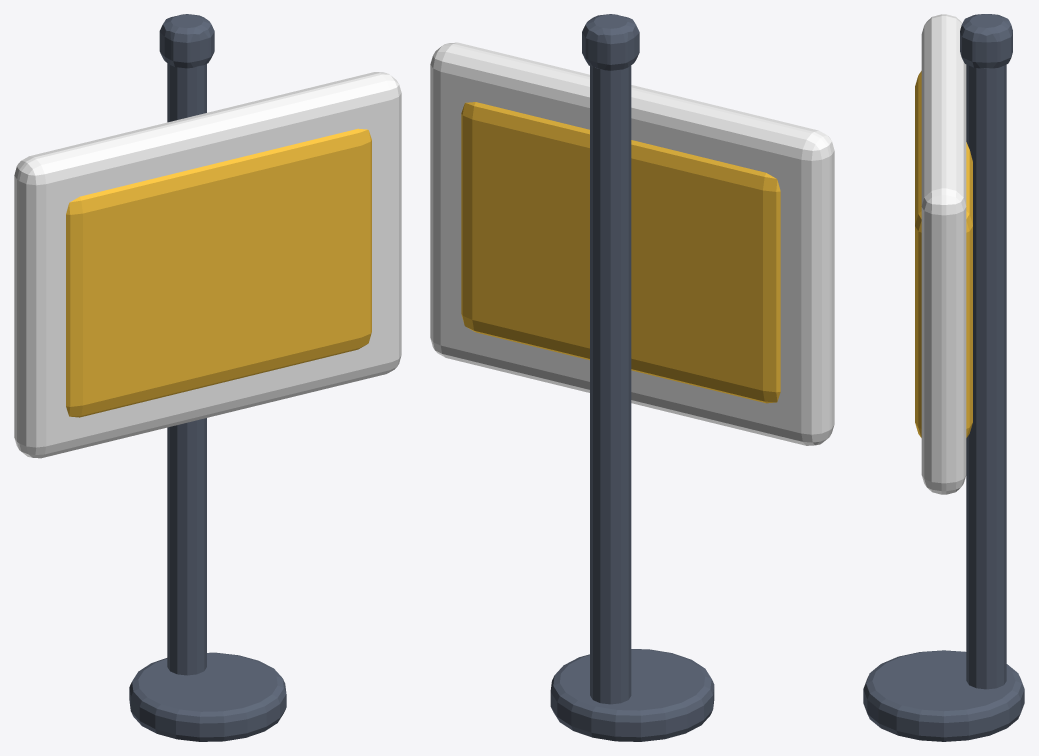
Rendered from stade_panneau_petit.fbx.
3 renders of one model, left to right at view 1: azimuth 30°, elevation 25°; view 2: azimuth 150°, elevation 25°; view 3: azimuth 270°, elevation 25°, orthographic. The views are drawn at different scales.
Visible parts, largest first — view 1: stade_panneau_petit_Face, stade_panneau_petit_Blanc, stade_panneau_petit_Gris; view 2: stade_panneau_petit_Face, stade_panneau_petit_Blanc, stade_panneau_petit_Gris; view 3: stade_panneau_petit_Gris, stade_panneau_petit_Blanc, stade_panneau_petit_Face.
Boxes of the visible parts, box(x1,y1,x2,y2) form: stade_panneau_petit_Face: box(66, 128, 371, 417); stade_panneau_petit_Blanc: box(14, 72, 401, 458); stade_panneau_petit_Gris: box(129, 14, 286, 741); stade_panneau_petit_Face: box(461, 102, 780, 403); stade_panneau_petit_Blanc: box(430, 42, 834, 445); stade_panneau_petit_Gris: box(550, 14, 714, 741); stade_panneau_petit_Gris: box(863, 14, 1024, 741); stade_panneau_petit_Blanc: box(921, 14, 966, 494); stade_panneau_petit_Face: box(915, 71, 972, 437).
Bounding box in the file's own units: 4 × 6.8 × 1.44.
